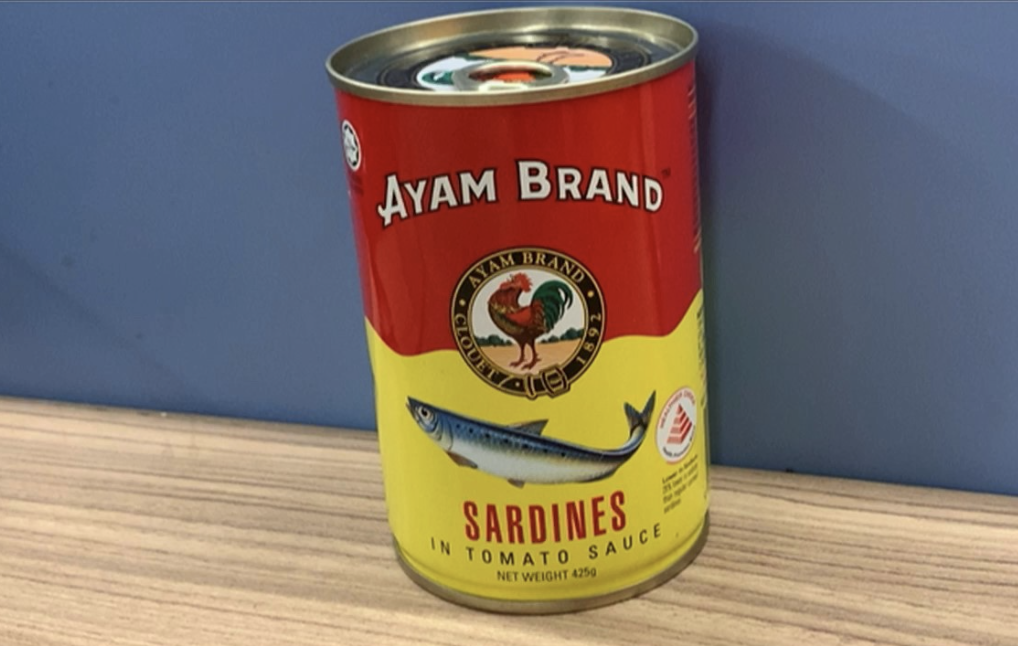sardines_400g-499g: (341, 57, 696, 582)
